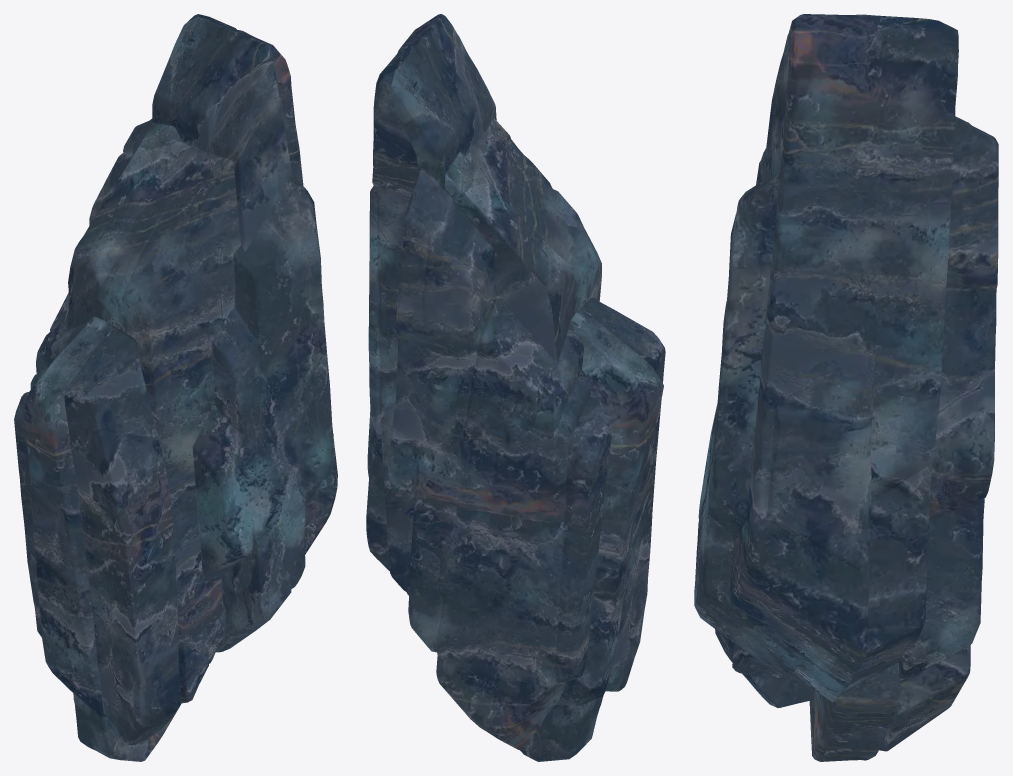
3 renders of one model, left to right at view 1: azimuth 30°, elevation 25°; view 2: azimuth 150°, elevation 25°; view 3: azimuth 270°, elevation 25°, orthographic. The views are drawn at different scales.
Parts seen in each view (by area): view 1: SM_Cave_Rock_Small_03_LOD0; view 2: SM_Cave_Rock_Small_03_LOD0; view 3: SM_Cave_Rock_Small_03_LOD0.
Part boxes in pixels (x1,y1,x2,y2): SM_Cave_Rock_Small_03_LOD0: (14,14,337,761); SM_Cave_Rock_Small_03_LOD0: (366,14,665,761); SM_Cave_Rock_Small_03_LOD0: (694,14,998,761).
Bounding box in the file's own units: 0.861 × 2.06 × 0.6969.
1 material, 1 textured.
